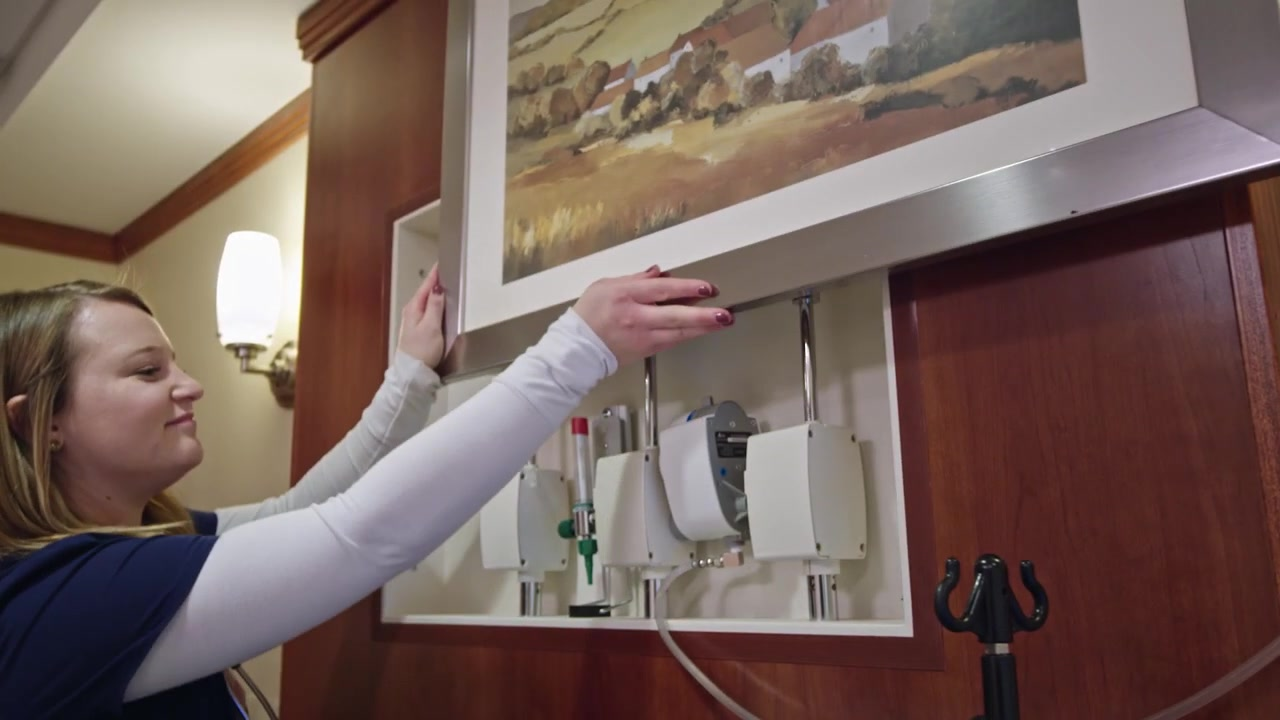iv_pole: (938, 550, 1060, 720)
staff: (1, 260, 736, 720)
